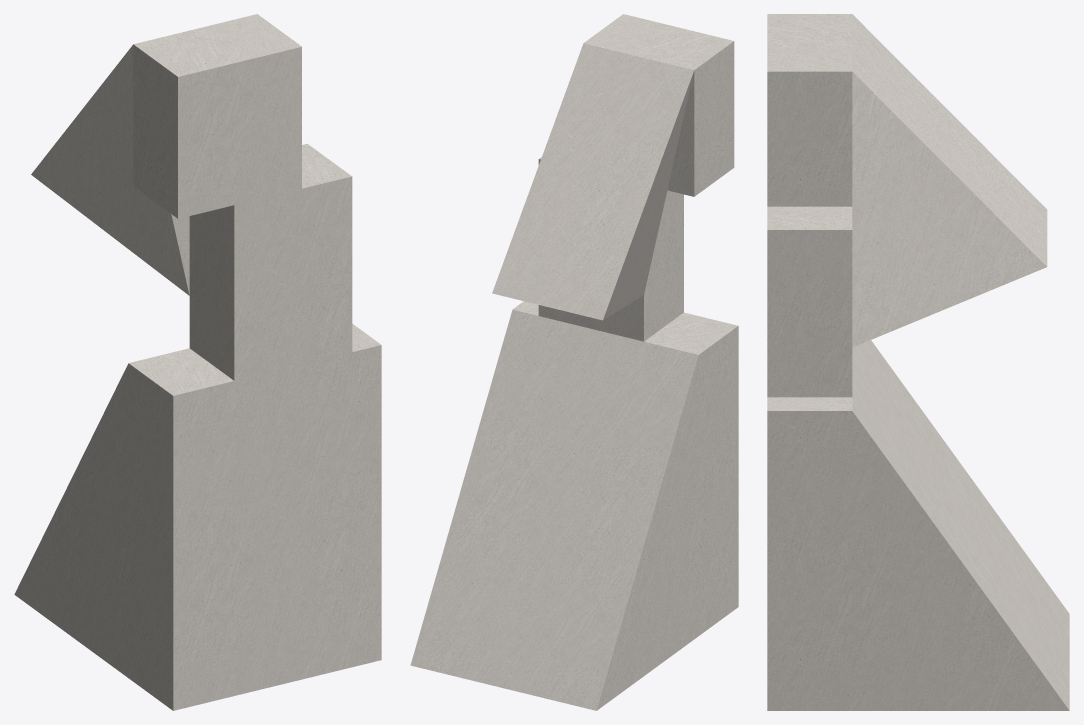
Rendered from knight-white-hd.glb.
The picture shows the model from 3 angles, left to right: view 1: azimuth 30°, elevation 25°; view 2: azimuth 150°, elevation 25°; view 3: azimuth 270°, elevation 25°; orthographic projection. The views are drawn at different scales.
Visible parts, largest first — view 1: jezdec_bila; view 2: jezdec_bila; view 3: jezdec_bila.
Boxes of the visible parts, x1,y1,x2,y2 form: jezdec_bila: [14, 14, 381, 710]; jezdec_bila: [410, 14, 738, 710]; jezdec_bila: [767, 14, 1069, 710].
Bounding box in the file's own units: 0.4516 × 1.31 × 0.5964.
1 material, 1 textured.
